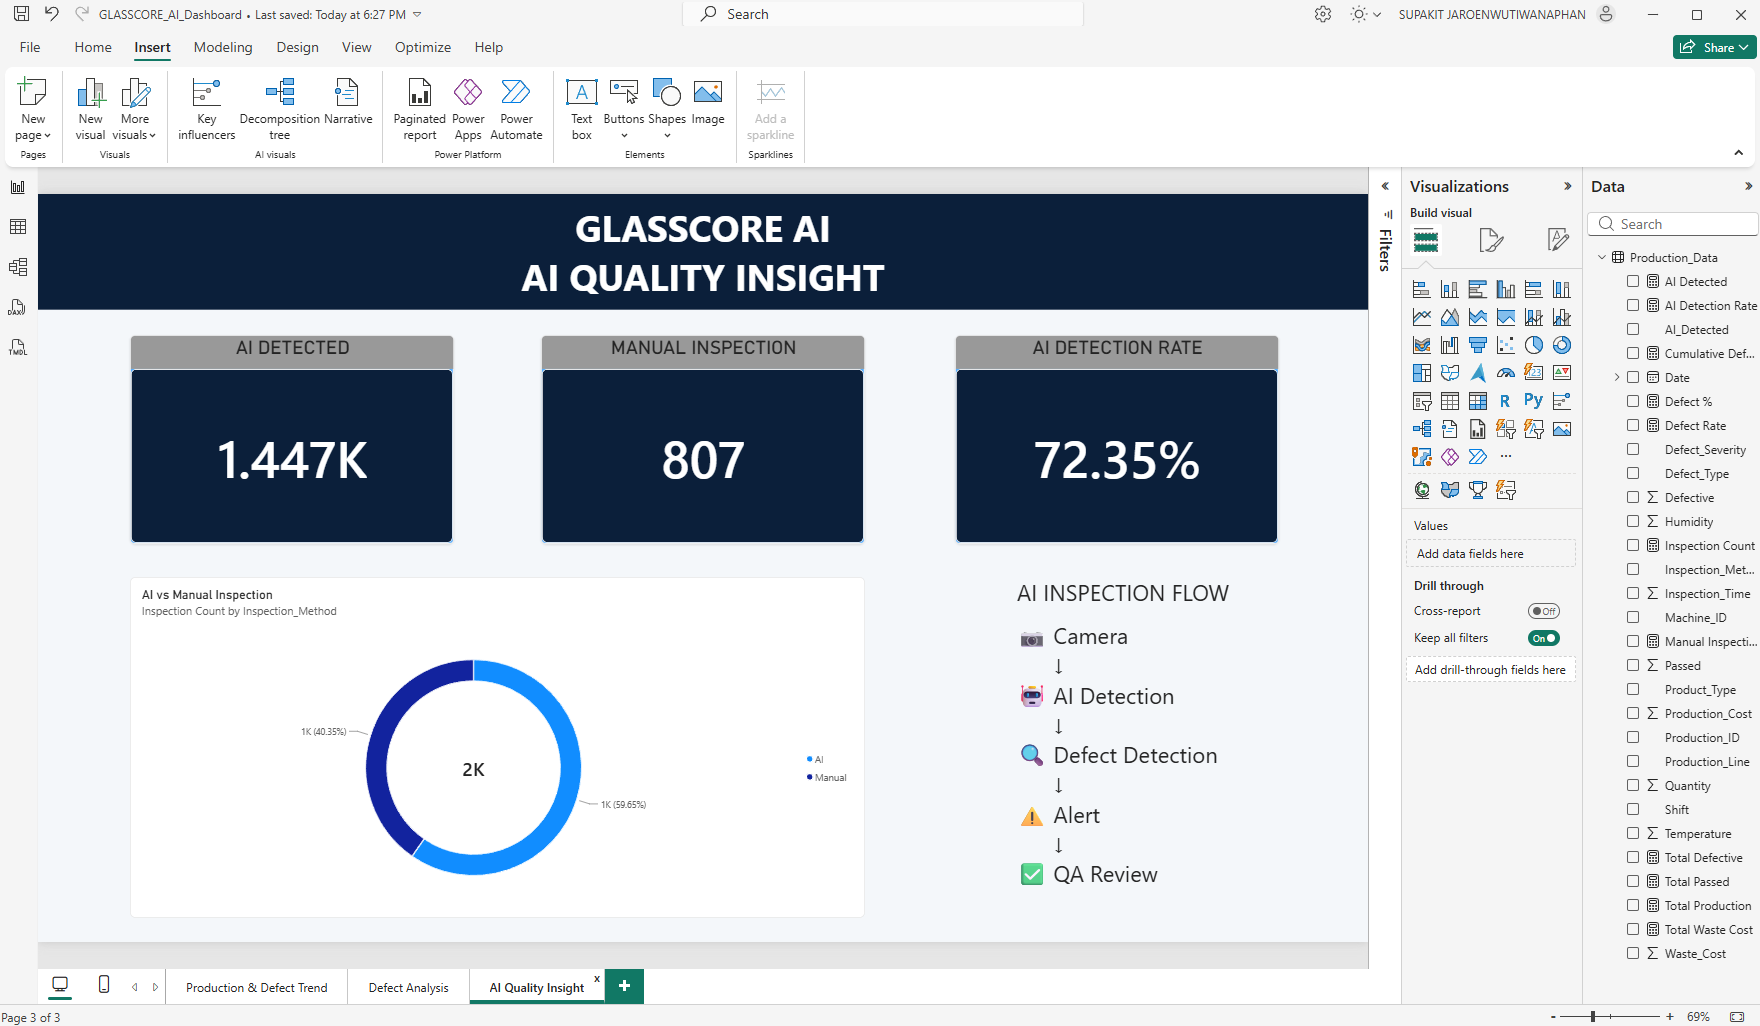

Layout of this report page (visuals, bound fields, positions):
{"tool":"powerbi","page":{"name":"AI Quality Insight","canvas":[1920,1080],"ordinal":2},"visuals":[{"type":"shape","box":[0,0,1920,167.5],"z":0},{"type":"textbox","box":[0,11.5,1920,155.9],"z":1000},{"type":"cardVisual","title":"AI DETECTED","fields":{"Data":["Production_Data.AI Detected"]},"box":[132.8,203.5,467.7,301.7],"z":2000},{"type":"cardVisual","title":"MANUAL INSPECTION","fields":{"Data":["Production_Data.Manual Inspection"]},"box":[726.1,203.5,467.7,301.7],"z":3000},{"type":"cardVisual","title":"AI DETECTION RATE","fields":{"Data":["Production_Data.AI Detection Rate"]},"box":[1323.8,203.5,467.7,301.7],"z":4000},{"type":"donutChart","title":"AI vs Manual Inspection","fields":{"Category":["Production_Data.Inspection_Method"],"Y":["Production_Data.Inspection Count"]},"box":[132.8,552.9,1061.1,492.3],"z":4001},{"type":"textbox","box":[1413.3,552.9,321.9,492.3],"z":4002}]}

Visuals, with their boxes on the page's 1920x1080 design canvas (x1, y1, x2, y2). These are canvas units, not pixel positions in the 1760x1026 screenshot, which may show the page scaled, cropped or inside an application window:
shape: Rect(0, 0, 1920, 168)
textbox: Rect(0, 12, 1920, 167)
"AI DETECTED" cardVisual: Rect(133, 204, 600, 505)
"MANUAL INSPECTION" cardVisual: Rect(726, 204, 1194, 505)
"AI DETECTION RATE" cardVisual: Rect(1324, 204, 1792, 505)
"AI vs Manual Inspection" donutChart: Rect(133, 553, 1194, 1045)
textbox: Rect(1413, 553, 1735, 1045)
